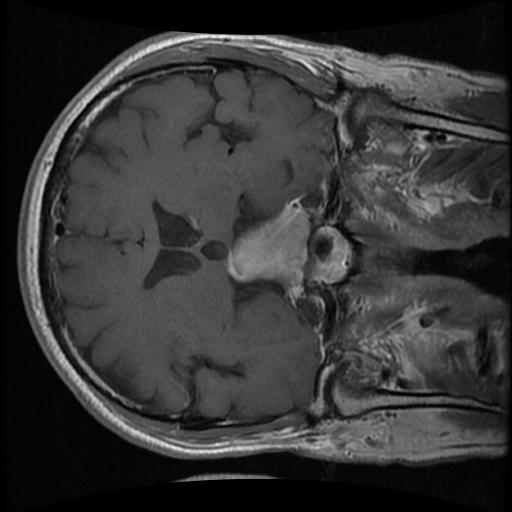pituitary tumour: (226, 199, 309, 305)
